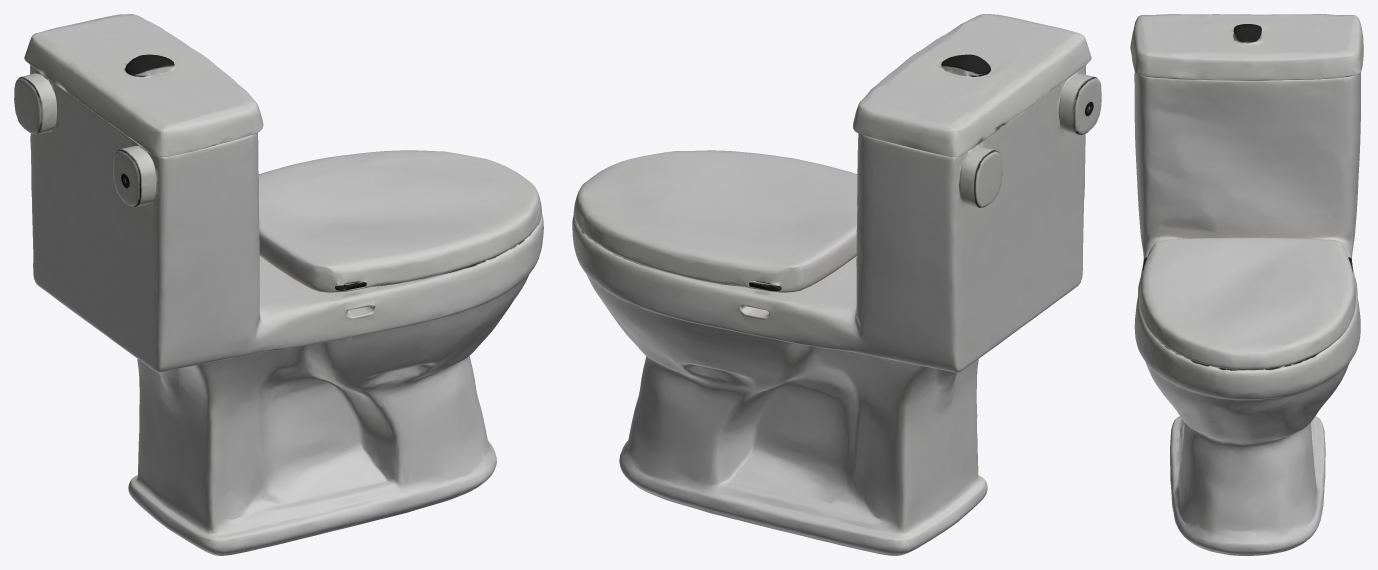
File: toilet-generic.glb
The picture shows the model from 3 angles, left to right: view 1: azimuth 30°, elevation 25°; view 2: azimuth 150°, elevation 25°; view 3: azimuth 270°, elevation 25°; orthographic projection. The views are drawn at different scales.
Visible parts, largest first — view 1: tripo_node_1bf69382-a98e-4c02-94fb-2499ffd1e939; view 2: tripo_node_1bf69382-a98e-4c02-94fb-2499ffd1e939; view 3: tripo_node_1bf69382-a98e-4c02-94fb-2499ffd1e939.
Part boxes in pixels (<box>): tripo_node_1bf69382-a98e-4c02-94fb-2499ffd1e939: <box>14,14,543,555</box>; tripo_node_1bf69382-a98e-4c02-94fb-2499ffd1e939: <box>572,14,1101,555</box>; tripo_node_1bf69382-a98e-4c02-94fb-2499ffd1e939: <box>1130,14,1363,555</box>.
Bounding box in the file's own units: 0.7796 × 0.78 × 0.4169.
1 material, 1 textured.
